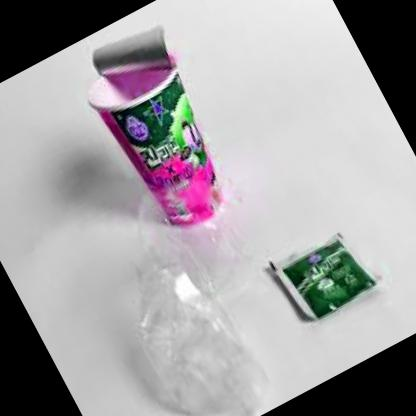Ramen: (74, 30, 252, 243)
